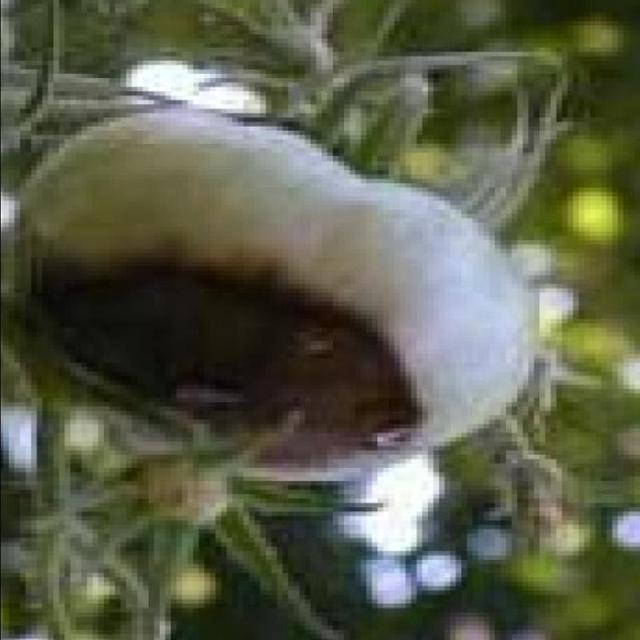Blossom End Rot Fruit: (22, 164, 290, 319)
